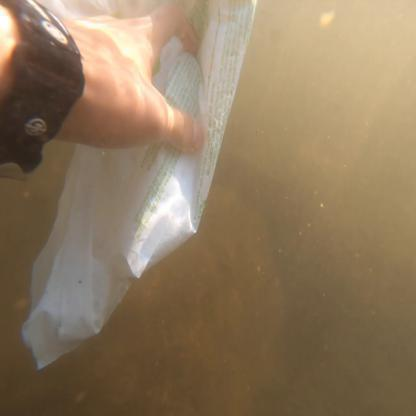Rác: (37, 0, 249, 323)
